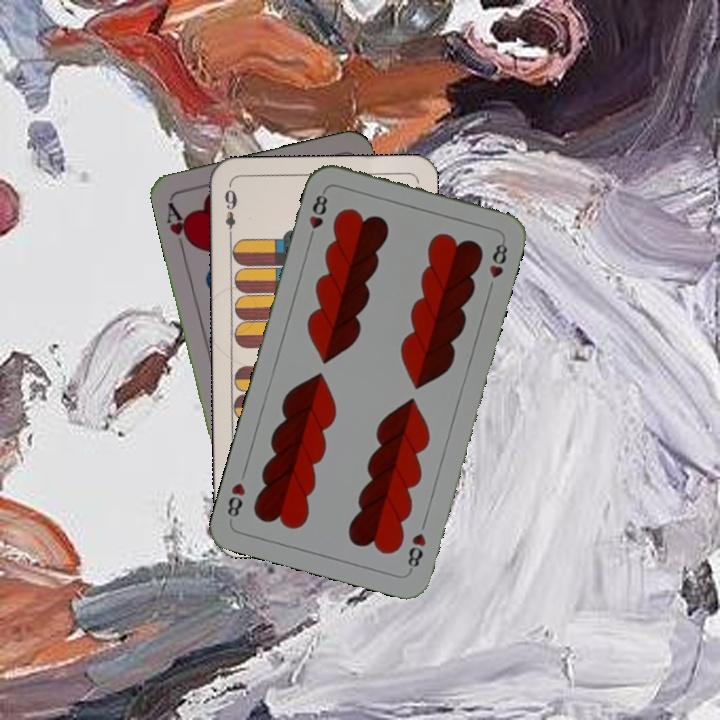E9: (220, 182, 239, 241)
H8: (304, 187, 331, 245), (403, 529, 429, 574)
HA: (162, 198, 196, 254)
